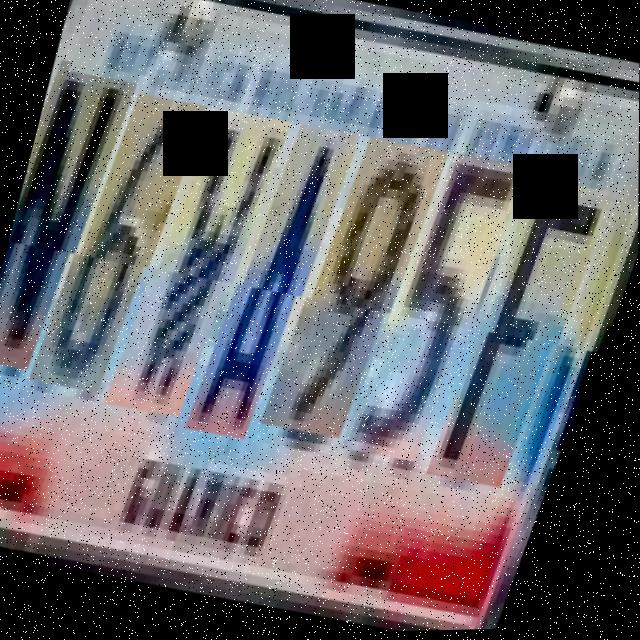5: (354, 149, 530, 480)
6: (43, 87, 210, 406)
9: (274, 132, 451, 455)
A: (199, 119, 363, 454)
F: (440, 176, 615, 507)
N: (0, 64, 140, 382)
W: (118, 102, 294, 433)
